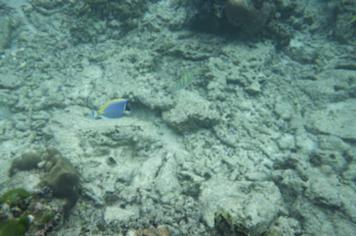Acanthuridae -Surgeonfishes-: (85, 96, 134, 120), (165, 71, 196, 93)
